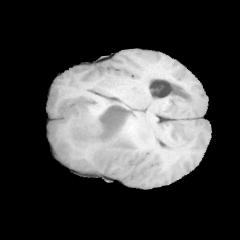glioma: (66, 102, 137, 170)
